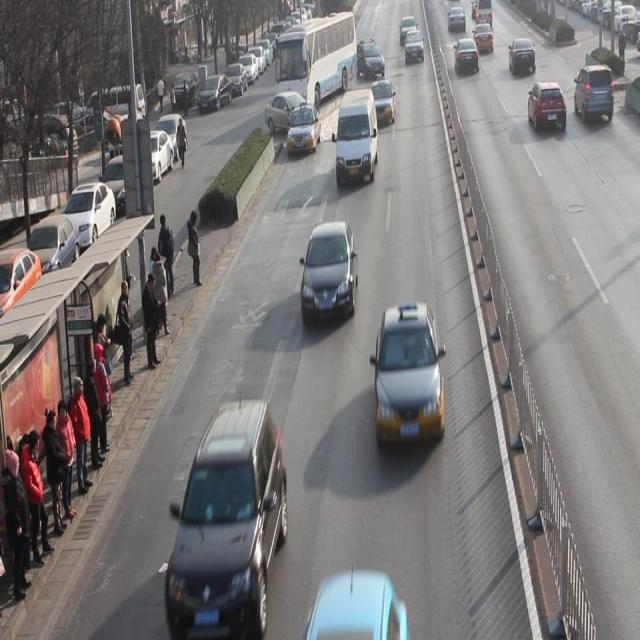car: (165, 401, 289, 631), (376, 304, 445, 446), (302, 220, 359, 322), (574, 64, 615, 122), (264, 92, 318, 136), (529, 81, 567, 132), (287, 104, 322, 156), (368, 79, 396, 127), (357, 39, 386, 81), (509, 38, 537, 76), (454, 38, 481, 77), (404, 29, 424, 66), (474, 22, 495, 55)
truck: (336, 88, 379, 187)
van: (276, 17, 358, 112)
